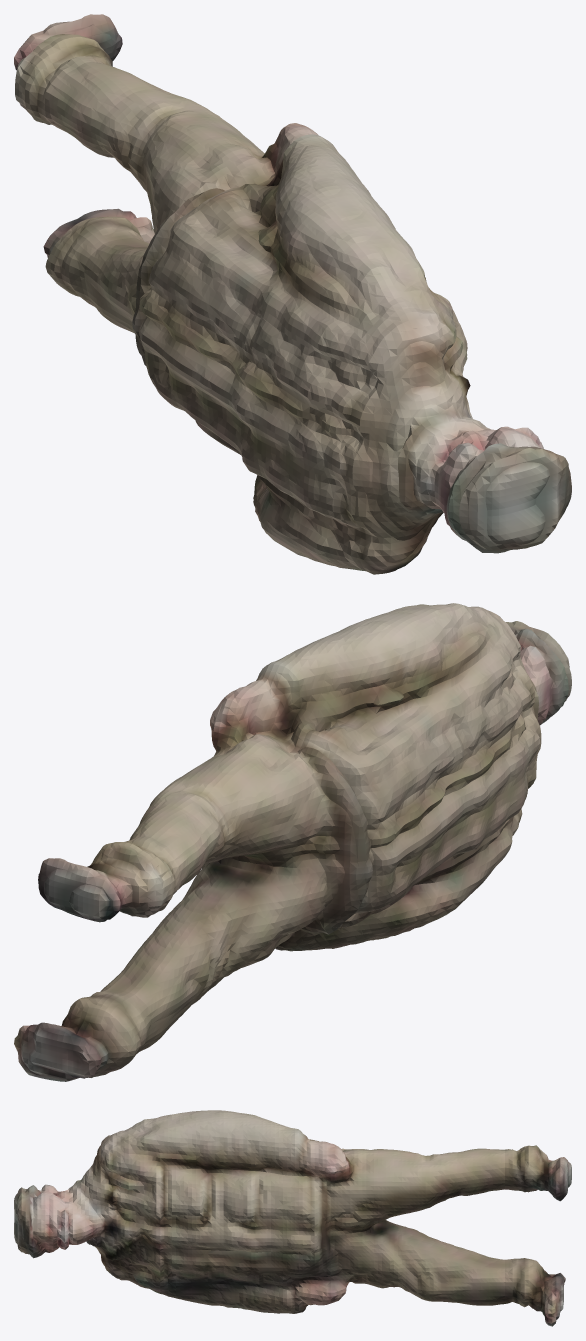
3 renders of one model, top to bottom at view 1: azimuth 30°, elevation 25°; view 2: azimuth 150°, elevation 25°; view 3: azimuth 270°, elevation 25°, orthographic. The views are drawn at different scales.
Parts seen in each view (by area): view 1: geometry_0; view 2: geometry_0; view 3: geometry_0.
Boxes of the visible parts, x1,y1,x2,y2 form: geometry_0: (14, 14, 571, 574); geometry_0: (14, 603, 571, 1081); geometry_0: (14, 1110, 571, 1326).
Size of the model in its own units: 0.2553 by 0.3693 by 0.9612.
